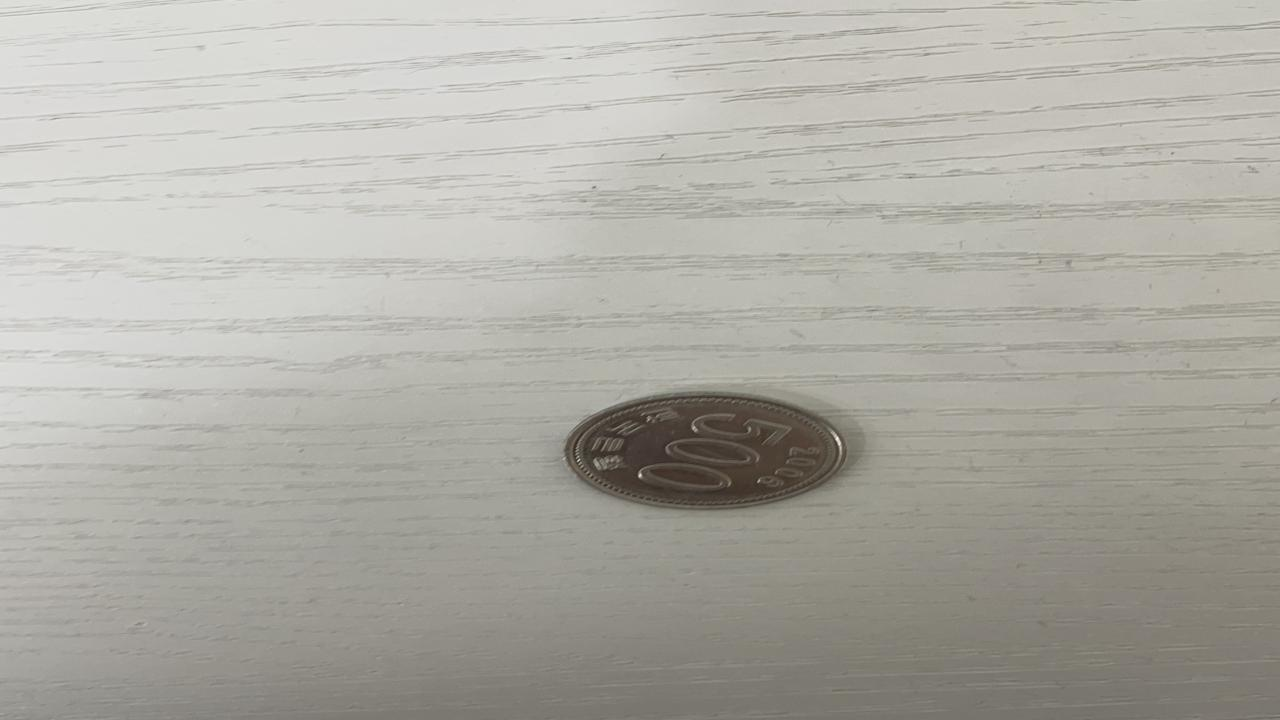coin: (558, 389, 854, 511)
